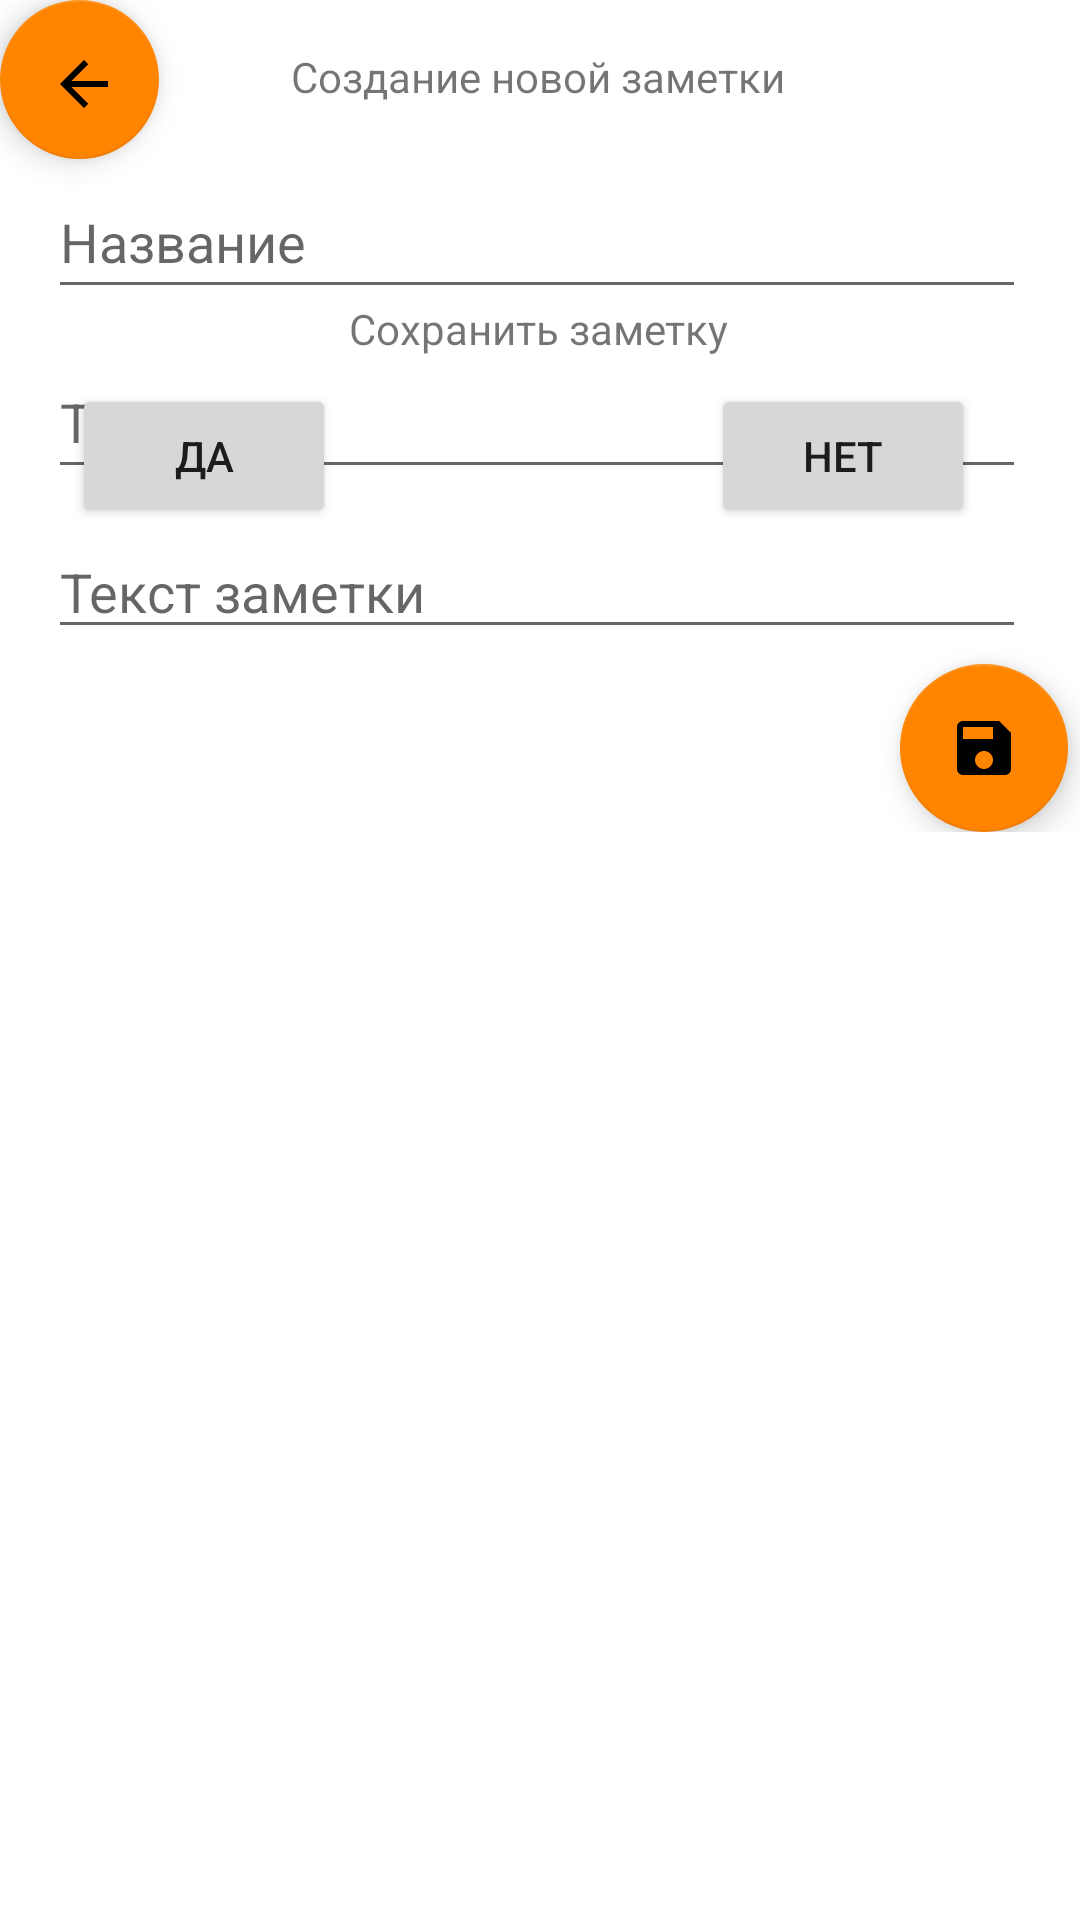

Where icons sit on this 1080×1920 app screen, as (x1, y1, x2, y2):
save: (900, 664, 1068, 832)
